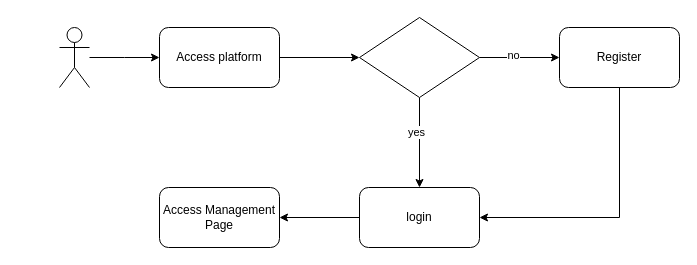
Image size: 697x265. Some labels were removed from this diagram. The shapes that lost their labels are listed below. From the top down, each one's centre as x and y in pixels, then its label:
At pixel 74 57: "Establishment Owner".
At pixel 419 57: "User has account?".
